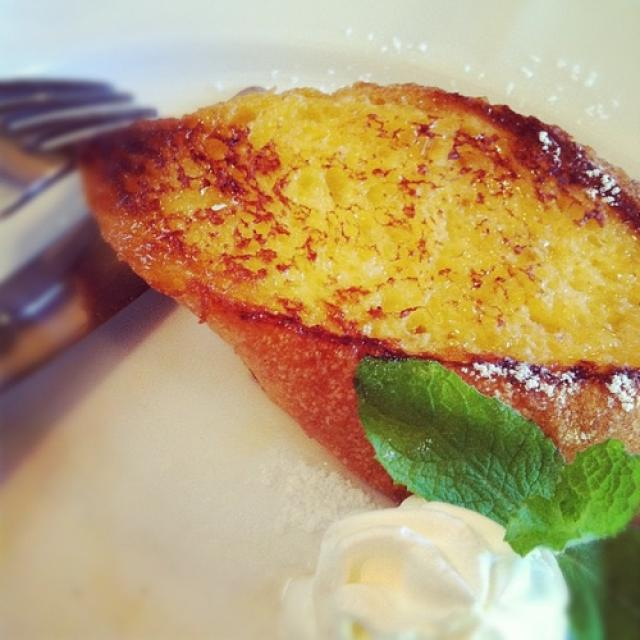面包点心: (29, 10, 624, 626)
